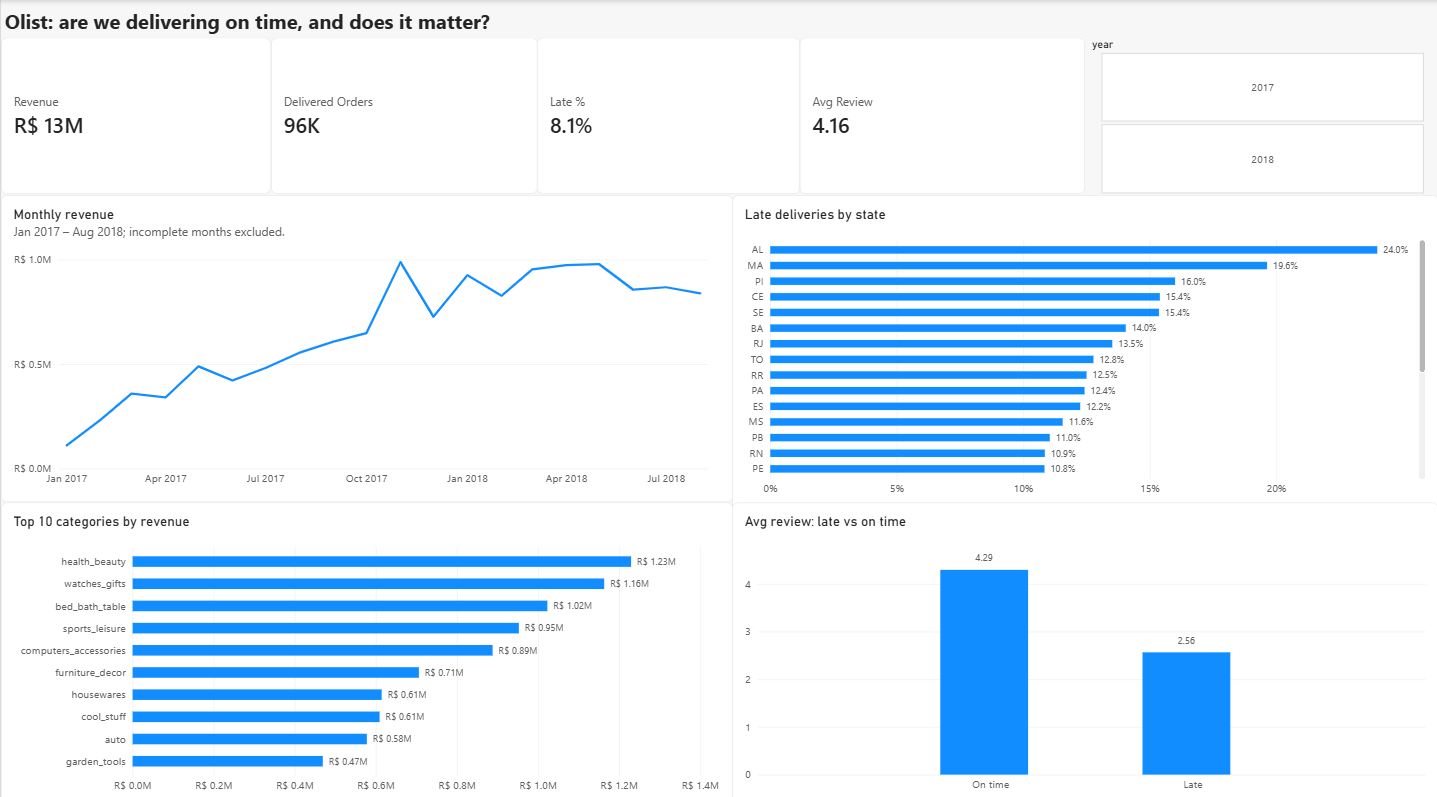

What the dashboard file says about the page in this screenshot:
{"tool":"powerbi","page":{"name":"Page 1","canvas":[1920,1080],"ordinal":0},"visuals":[{"type":"cardVisual","fields":{"Data":["fact_orders.Revenue"]},"box":[0,50.7,360.1,209.9],"z":0},{"type":"cardVisual","fields":{"Data":["fact_orders.Delivered Orders"]},"box":[360.1,50.7,356.5,209.9],"z":1000},{"type":"cardVisual","fields":{"Data":["fact_orders.Late %"]},"box":[716.6,50.7,351.1,209.9],"z":2000},{"type":"cardVisual","fields":{"Data":["fact_orders.Avg Review"]},"box":[1067.7,50.7,381.8,209.9],"z":3000},{"type":"lineChart","title":"Monthly revenue","fields":{"Category":["dim_date.year_month"],"Y":["fact_orders.Revenue"]},"box":[0,260.6,977.2,410.8],"z":4000},{"type":"clusteredBarChart","title":"Late deliveries by state","fields":{"Category":["dim_customer.customer_state"],"Y":["fact_orders.Late %"]},"box":[977.2,260.6,942.8,423.5],"z":5000},{"type":"clusteredBarChart","title":"Top 10 categories by revenue","fields":{"Category":["dim_product.category"],"Y":["fact_order_items.Category Revenue"]},"box":[0,671.4,977.2,409],"z":6000},{"type":"lineClusteredColumnComboChart","title":"Avg review: late vs on time","fields":{"Category":["fact_orders.Delivery"],"Y":["fact_orders.Avg Review"]},"box":[977.2,671.4,943.4,408.3],"z":7000},{"type":"slicer","fields":{"Values":["dim_date.year"]},"box":[1449.5,50.7,470.5,209.9],"z":8000},{"type":"textbox","box":[5,10,805.3,56.1],"z":8002}]}

Visuals, with their boxes in screenshot pixels (x1, y1, x2, y2), scaled from the page's 1920x1080 canvas onto the 1437x797 screenshot:
cardVisual - fact_orders.Revenue: left=0, top=37, right=270, bottom=192
cardVisual - fact_orders.Delivered Orders: left=270, top=37, right=536, bottom=192
cardVisual - fact_orders.Late %: left=536, top=37, right=799, bottom=192
cardVisual - fact_orders.Avg Review: left=799, top=37, right=1085, bottom=192
"Monthly revenue" lineChart: left=0, top=192, right=731, bottom=495
"Late deliveries by state" clusteredBarChart: left=731, top=192, right=1436, bottom=505
"Top 10 categories by revenue" clusteredBarChart: left=0, top=495, right=731, bottom=796
"Avg review: late vs on time" lineClusteredColumnComboChart: left=731, top=495, right=1436, bottom=796
slicer - dim_date.year: left=1085, top=37, right=1436, bottom=192
textbox: left=4, top=7, right=606, bottom=49
